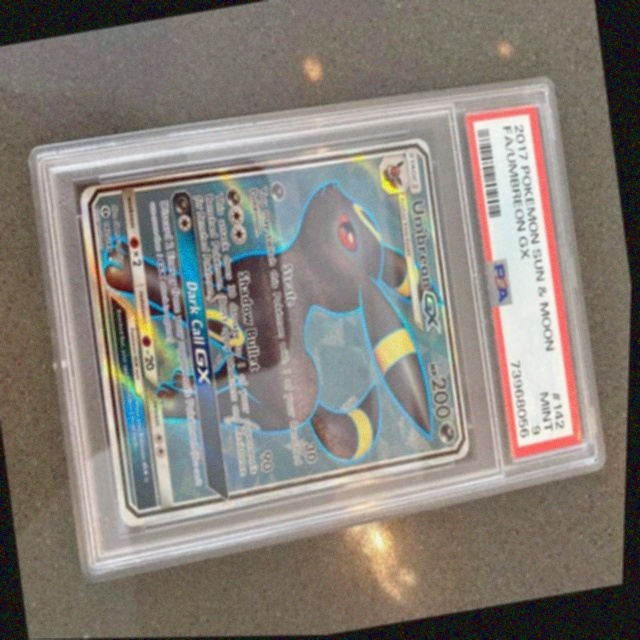card: (80, 138, 472, 529)
